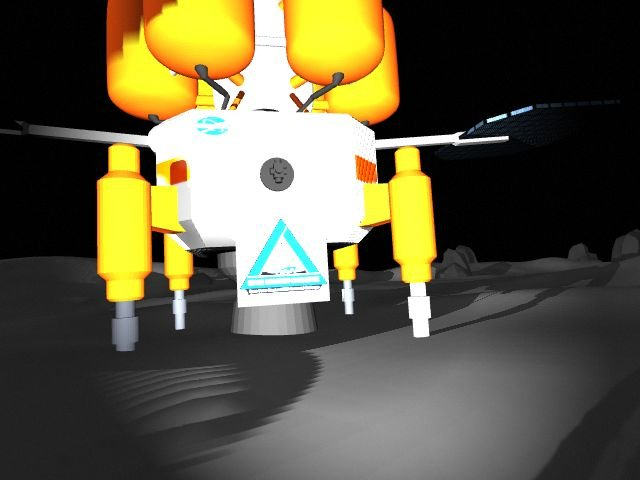basemarker: (240, 219, 329, 297)
